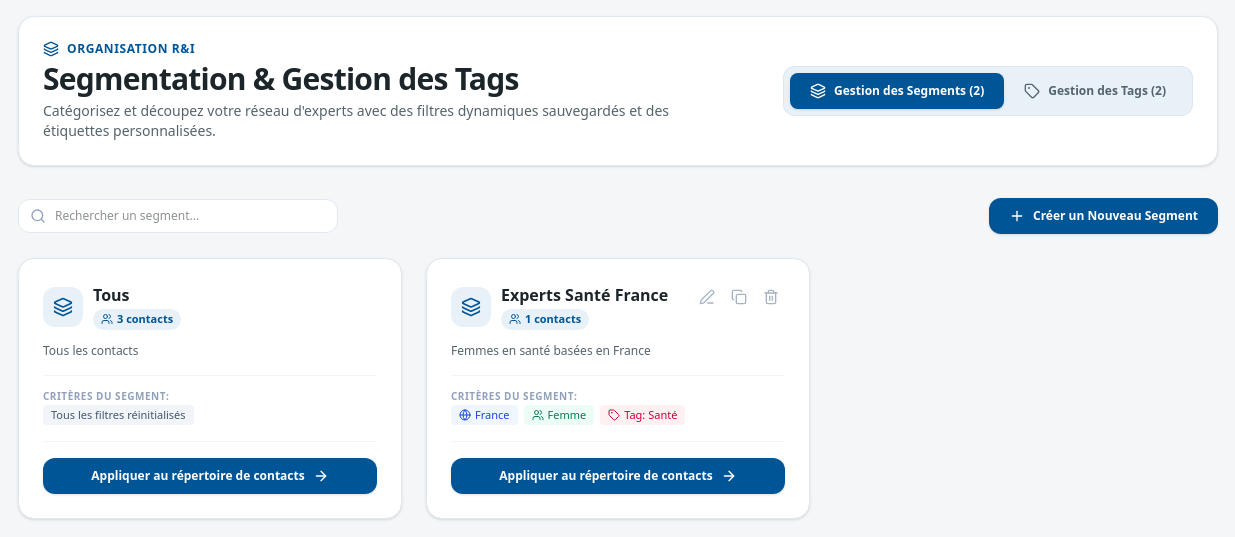
Test: SegmentationView › Segments tab – search › filters segments by name
Type "Santé" into the field with placeholder "Rechercher un segment...".
click(178, 216); type("Santé")  # box [18,199,338,233]
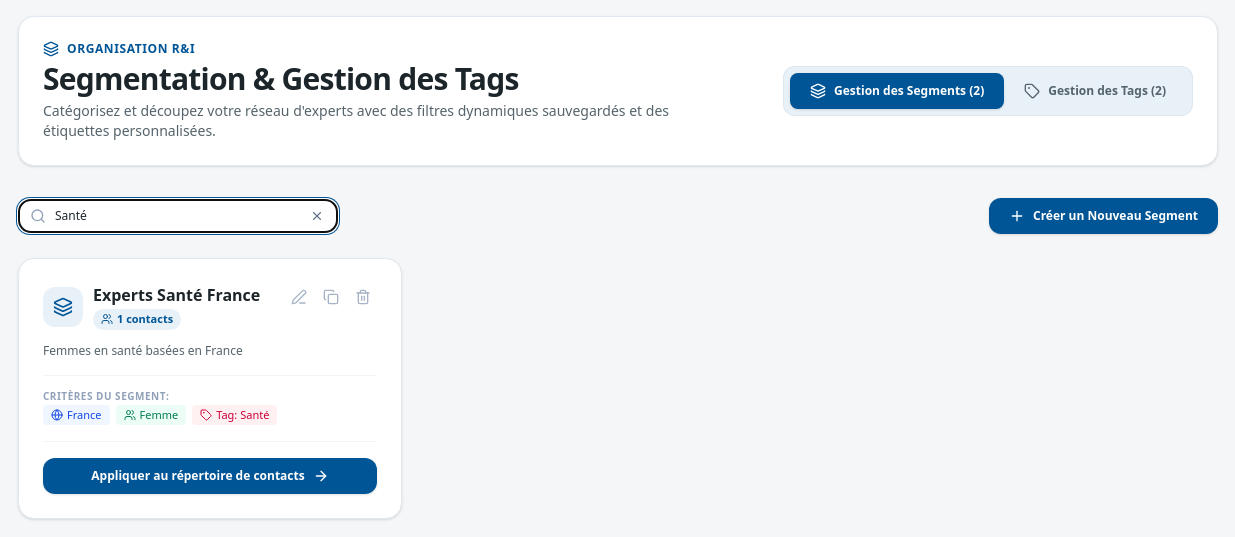
Expected: the heading "Experts Santé France" is shown, [93,283,260,307]
Now the heading "Tous" is gone
